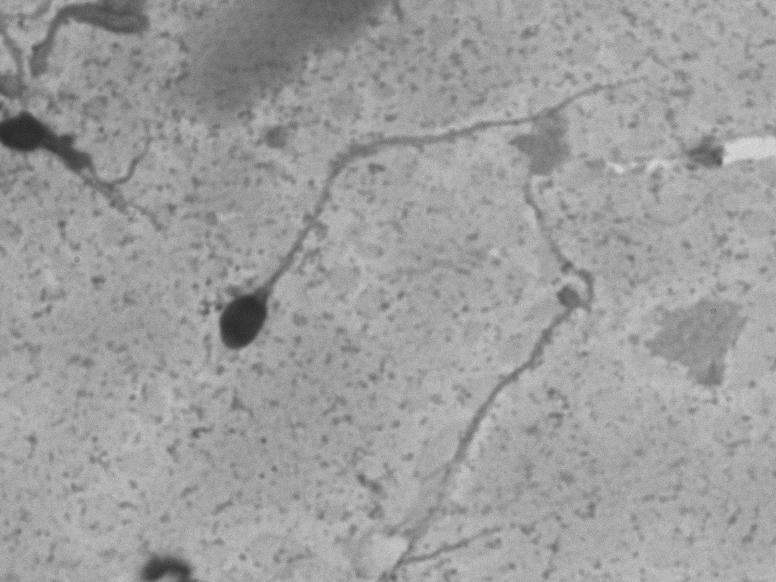Normal: (198, 68, 661, 369)
